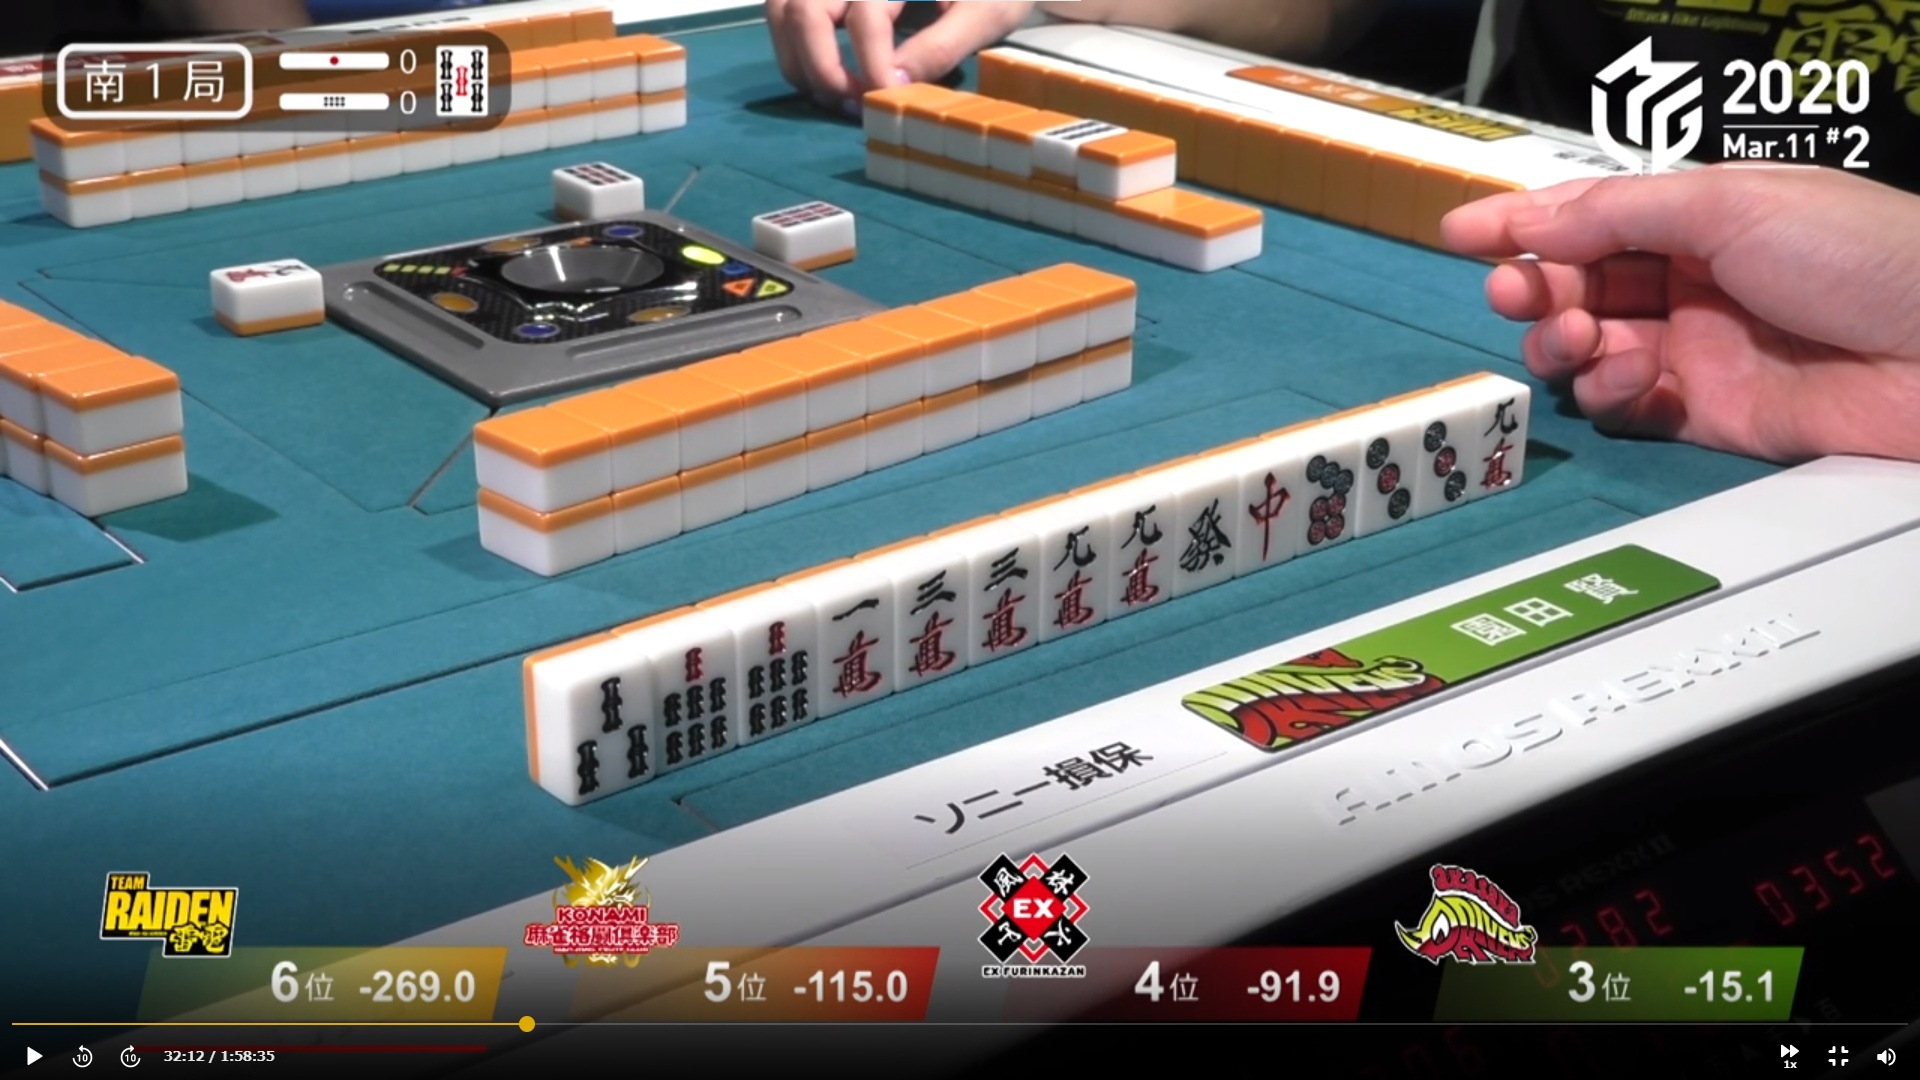1m: (812, 584, 885, 703)
3m: (967, 542, 1040, 662), (895, 560, 963, 678)
3p: (1360, 425, 1408, 533), (1418, 411, 1470, 509)
3s: (560, 659, 649, 791)
7p: (1298, 440, 1349, 550)
7s: (732, 608, 812, 733), (657, 637, 735, 761)
9m: (1105, 496, 1170, 624), (1044, 517, 1104, 634), (1476, 390, 1520, 492)
chun: (1244, 455, 1295, 574)
hand_nan_1: (51, 37, 258, 115)
hatsu: (1162, 477, 1237, 597)
round_0: (258, 82, 415, 117)
team_drivens: (1175, 632, 1472, 754)
